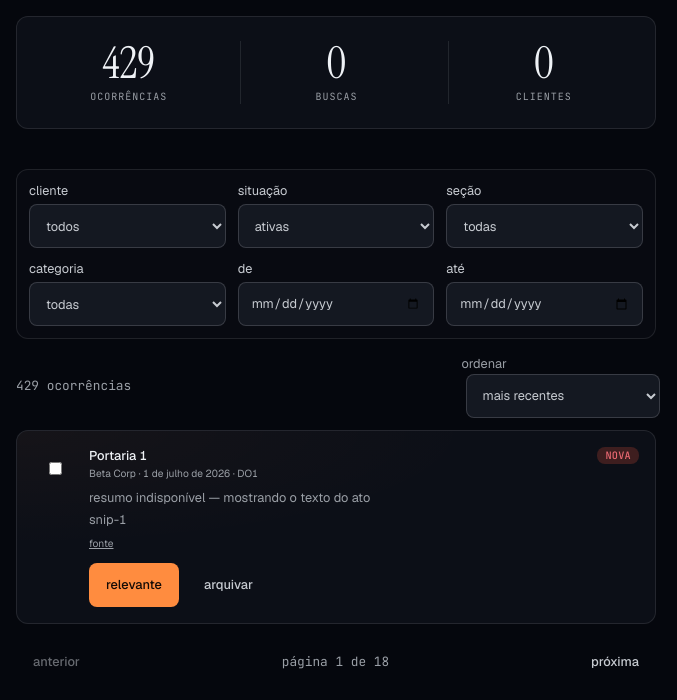
Test: the page indicator follows the Next button
This screenshot has width=677, height=700.
(page scrolled)
expect the text "página 1 de 18" is shown: met, box [282,653,389,671]
Click the button "próxima" at (615, 662), box [574,640,656,684]
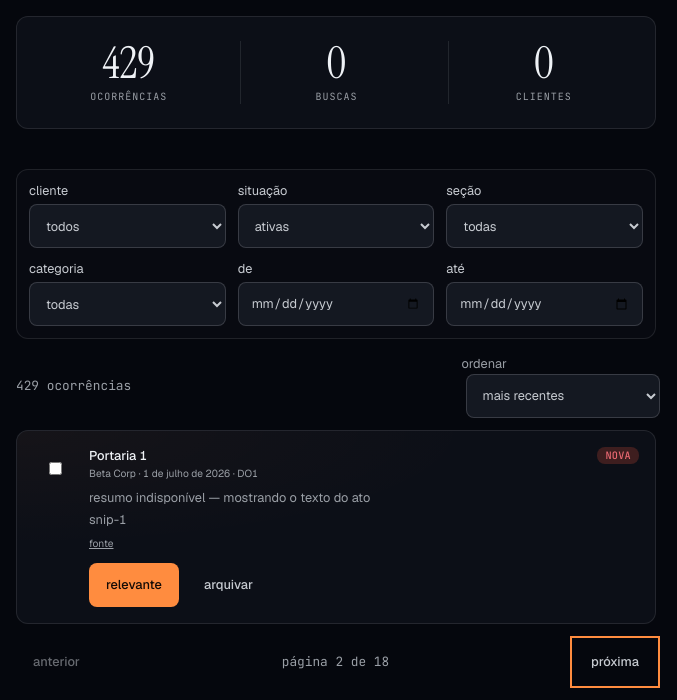
expect the text "página 2 de 18" is shown: met, box [282,653,389,671]
